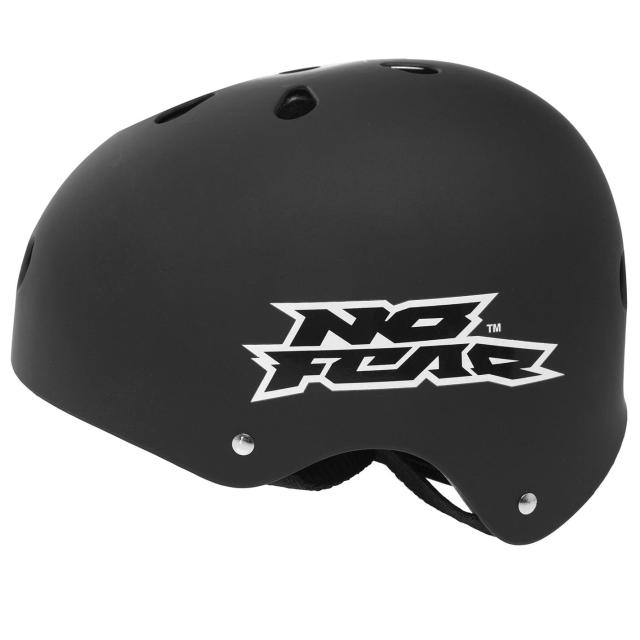illegal_helmet: (0, 36, 640, 559)
